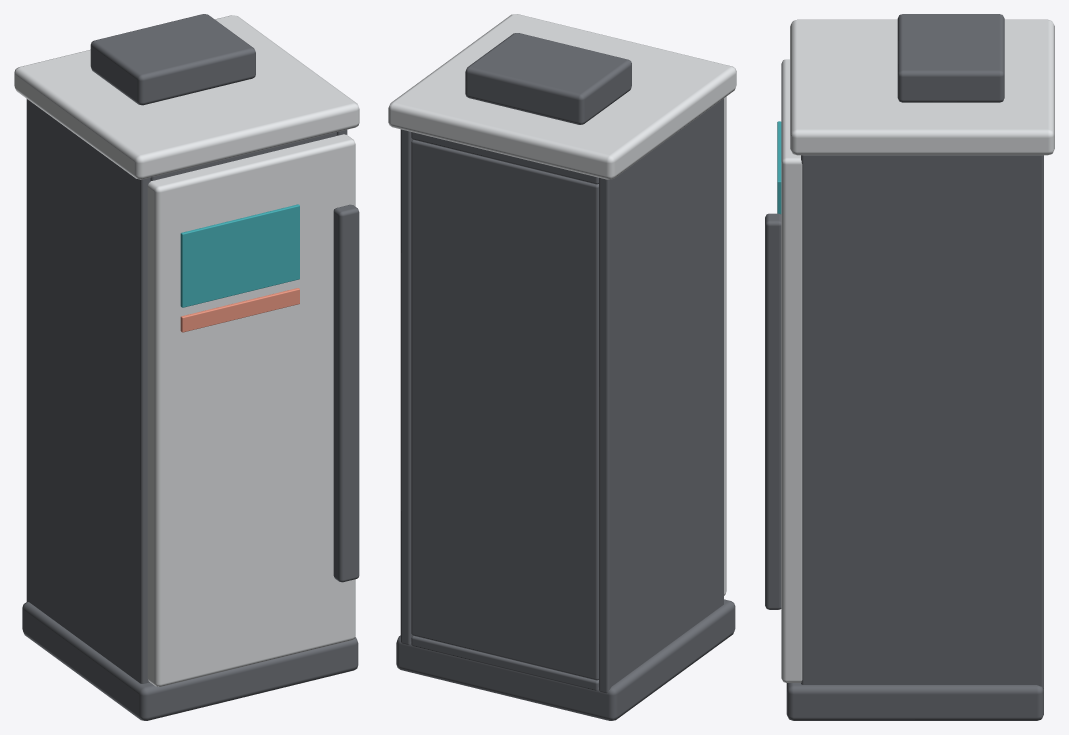
Rendered from public-aquarium-and-marine-centre-feed-fridge-78751f1a__34181.glb.
The picture shows the model from 3 angles, left to right: view 1: azimuth 30°, elevation 25°; view 2: azimuth 150°, elevation 25°; view 3: azimuth 270°, elevation 25°; orthographic projection. The views are drawn at different scales.
Visible parts, largest first — view 1: feed-fridge, door-fridge/steel, door-fridge/frame, door-fridge/teal, door-fridge/coral; view 2: feed-fridge, door-fridge/steel; view 3: feed-fridge, door-fridge/steel, door-fridge/frame.
Boxes of the visible parts, x1,y1,x2,y2 form: feed-fridge: [14, 14, 359, 720]; door-fridge/steel: [147, 134, 355, 686]; door-fridge/frame: [333, 204, 359, 582]; door-fridge/teal: [180, 204, 299, 307]; door-fridge/coral: [180, 288, 299, 332]; feed-fridge: [388, 14, 736, 720]; door-fridge/steel: [724, 96, 726, 595]; feed-fridge: [786, 14, 1054, 720]; door-fridge/steel: [781, 59, 802, 682]; door-fridge/frame: [765, 213, 781, 609].
Bounding box in the file's own units: 0.76 × 1.93 × 0.8101.
